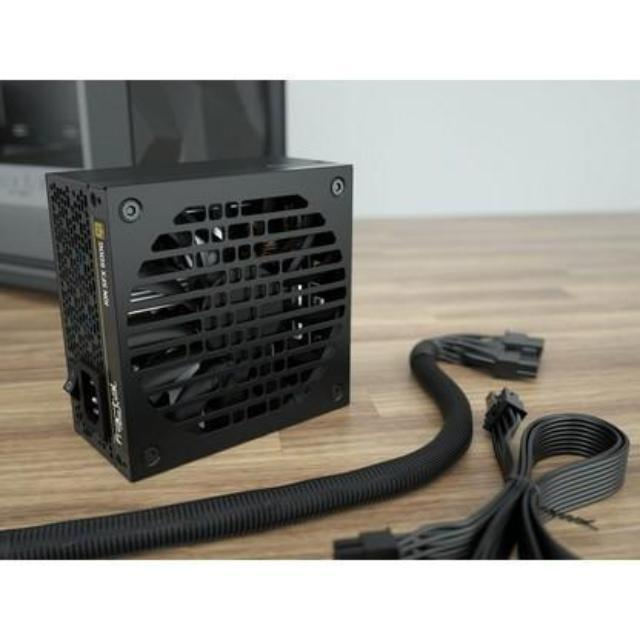PSU: (38, 148, 367, 486)
